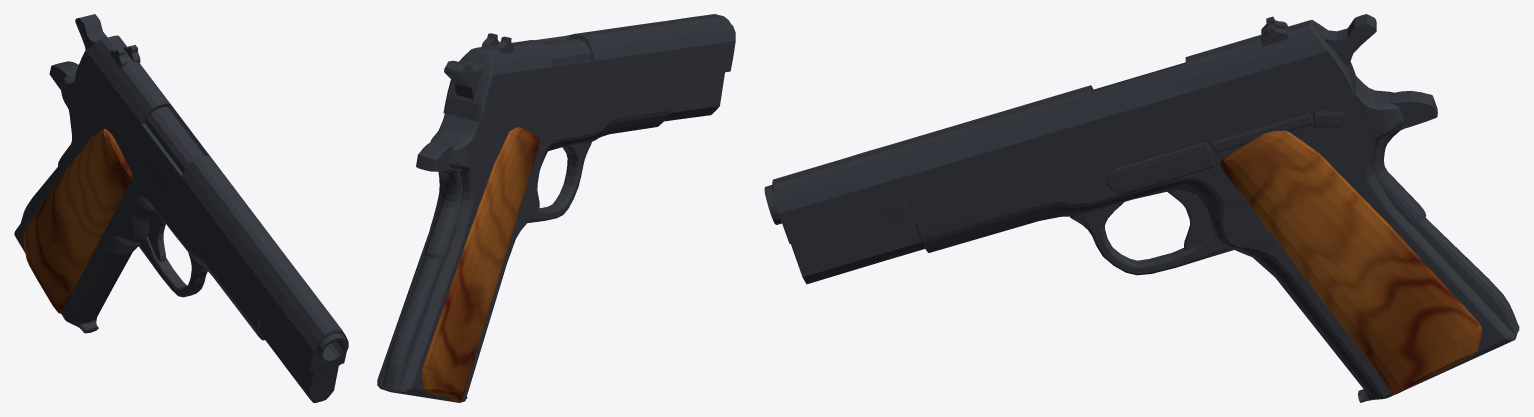
The model's file is pistol.glb.
3 renders of one model, left to right at view 1: azimuth 30°, elevation 25°; view 2: azimuth 150°, elevation 25°; view 3: azimuth 270°, elevation 25°, orthographic. The views are drawn at different scales.
Visible parts, largest first — view 1: pistol; view 2: pistol; view 3: pistol.
Boxes of the visible parts, x1,y1,x2,y2 form: pistol: (14,14,348,402); pistol: (377,14,735,402); pistol: (764,14,1519,402).
Bounding box in the file's own units: 0.0204 × 0.1371 × 0.2459.
Materials: 1 (1 with a texture image).
